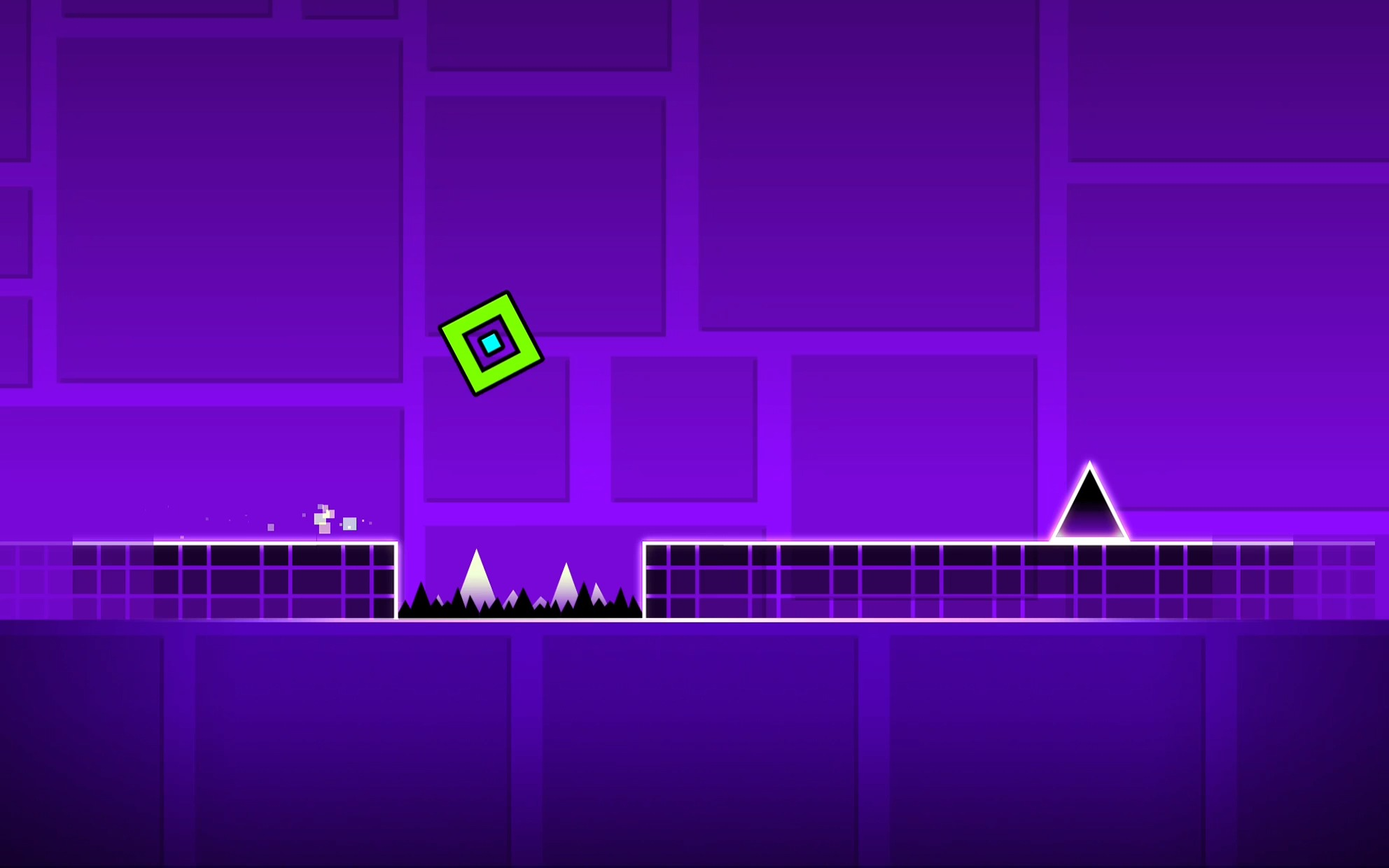Block2: (646, 540, 1384, 614), (1, 542, 398, 618)
Player: (439, 291, 543, 393)
Spike: (1052, 463, 1128, 539)
Spike3: (397, 582, 643, 622)
